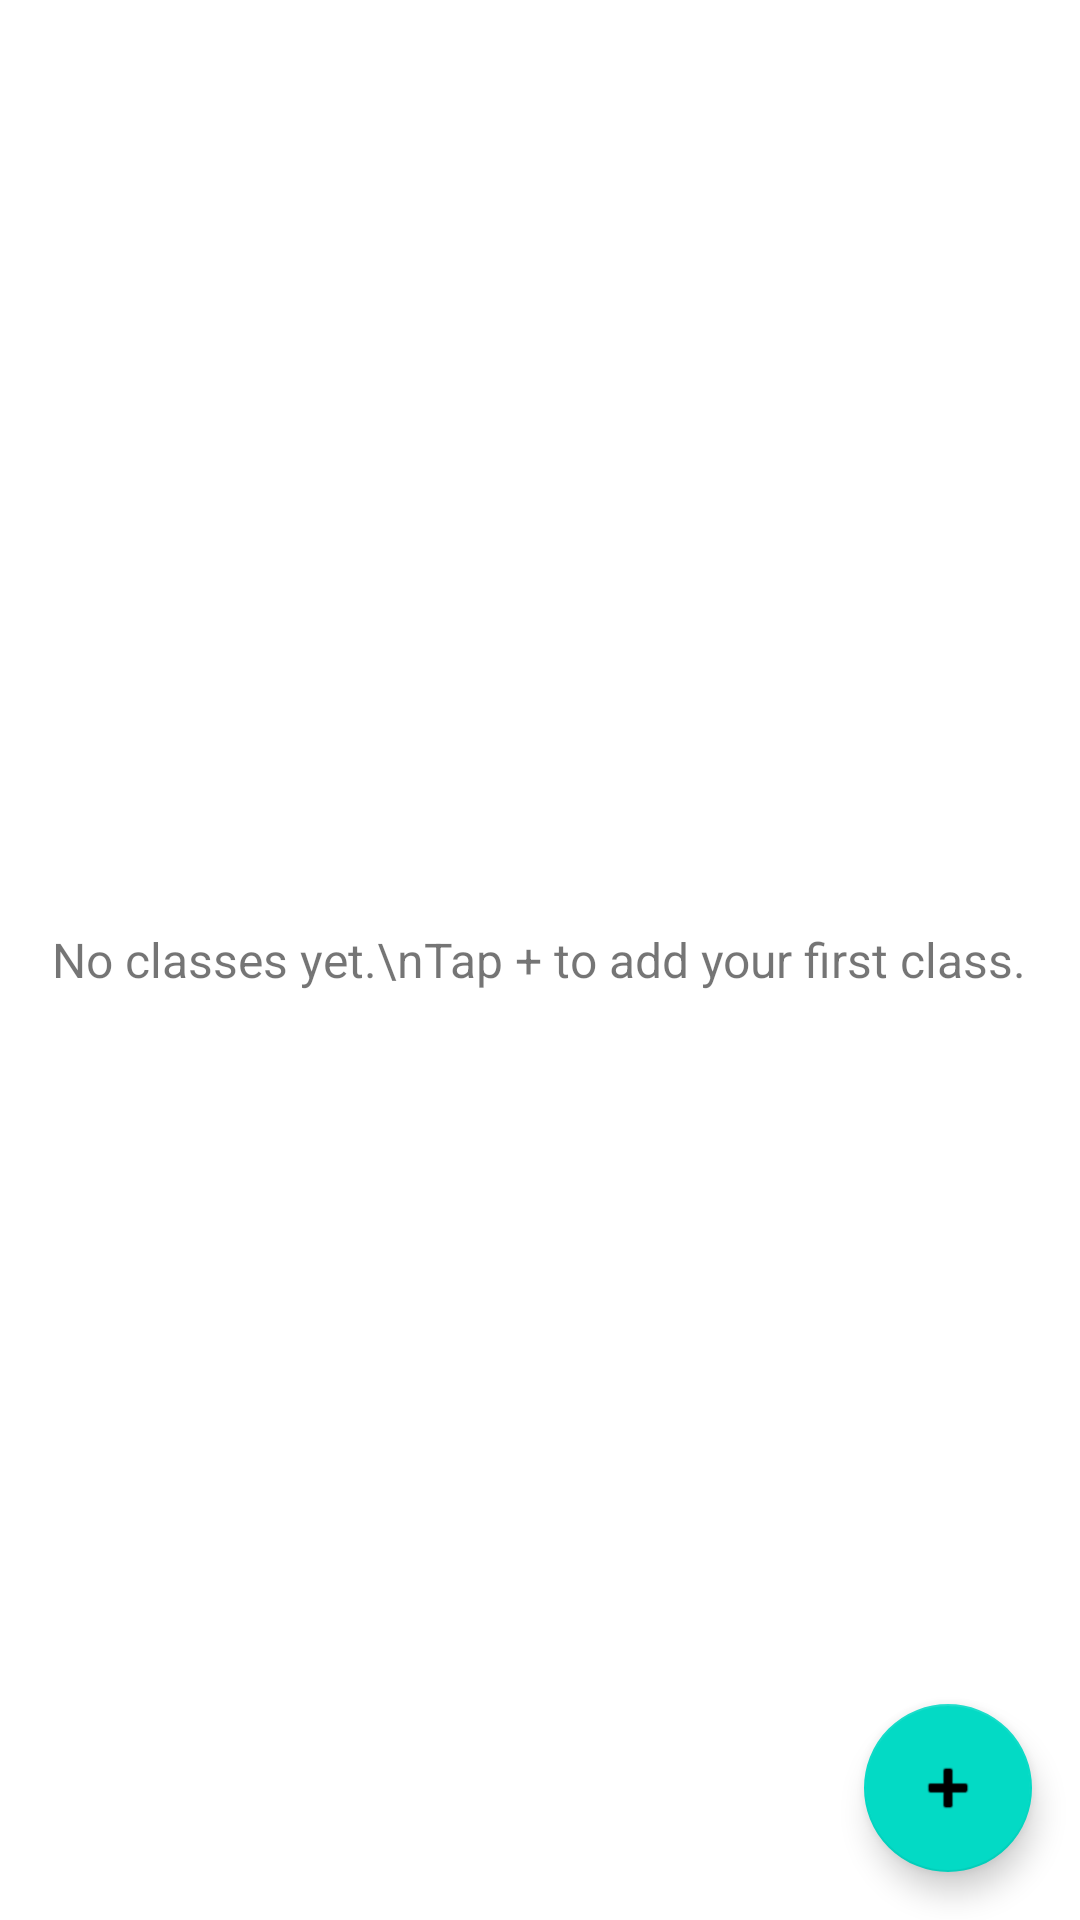

Screen size 1080 x 1920. Icon name, then its box in pixels as (x1, y1, x2, y2):
Add class: (864, 1704, 1032, 1872)
